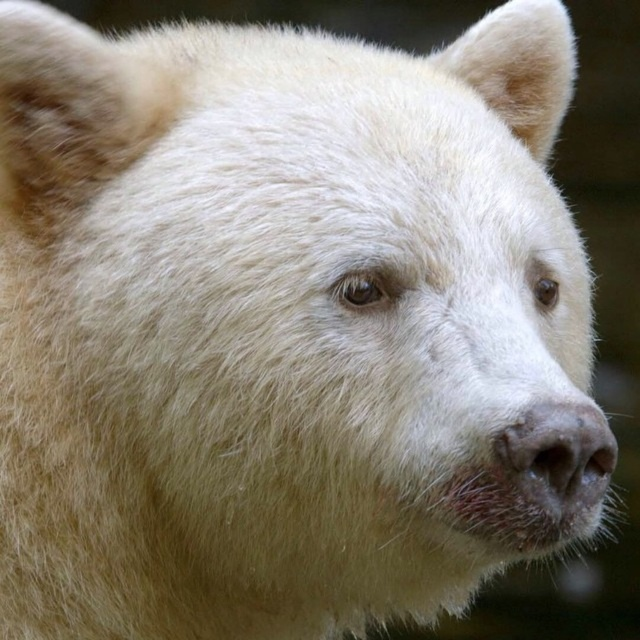Polar bear: (0, 2, 639, 639)
